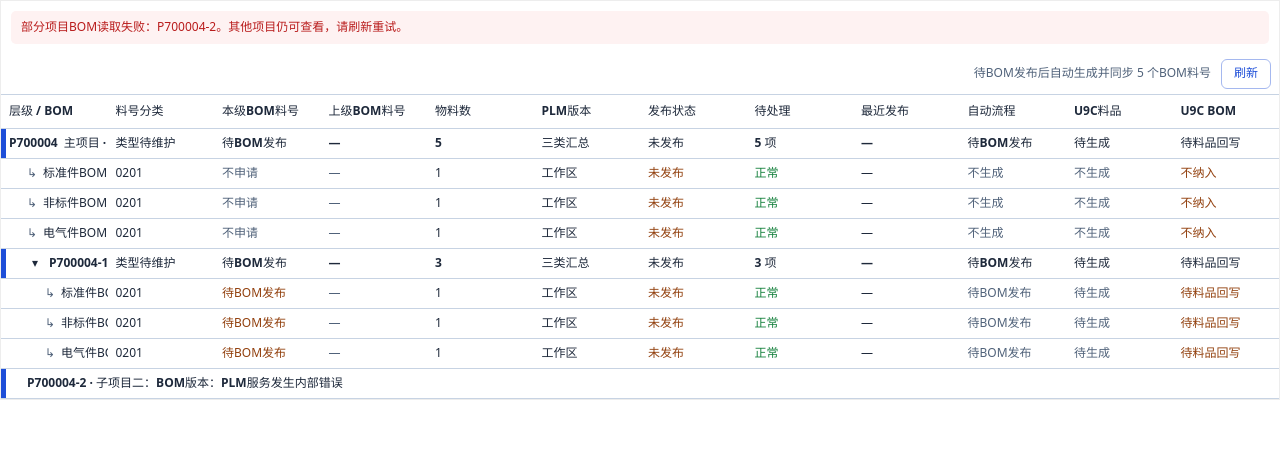
Test case: BomHierarchyOverview › keeps the healthy projects visible when one child BOM version request fails
The width and height of the screenshot is (1280, 454).
What coordinates should you click on to do the following:
click the button with aria-label "刷新多级BOM"
I would click on:
 (1246, 74)
Its box is [1221, 59, 1271, 89].
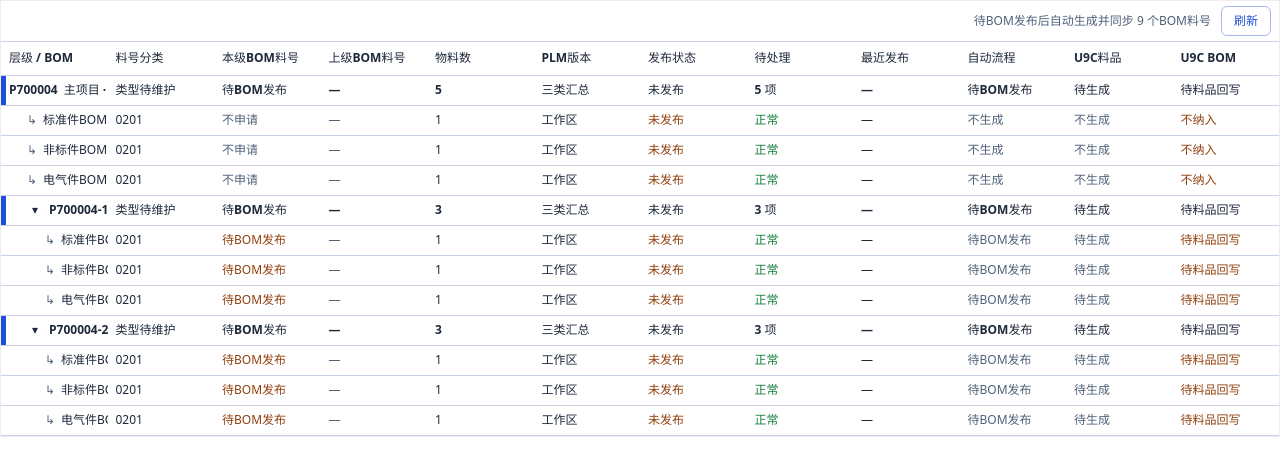
Expected: the text "部分项目BOM读取失败" is gone
Expected: the text "待BOM发布后自动生成并同步 9 个BOM料号" is shown, [974, 13, 1211, 29]
